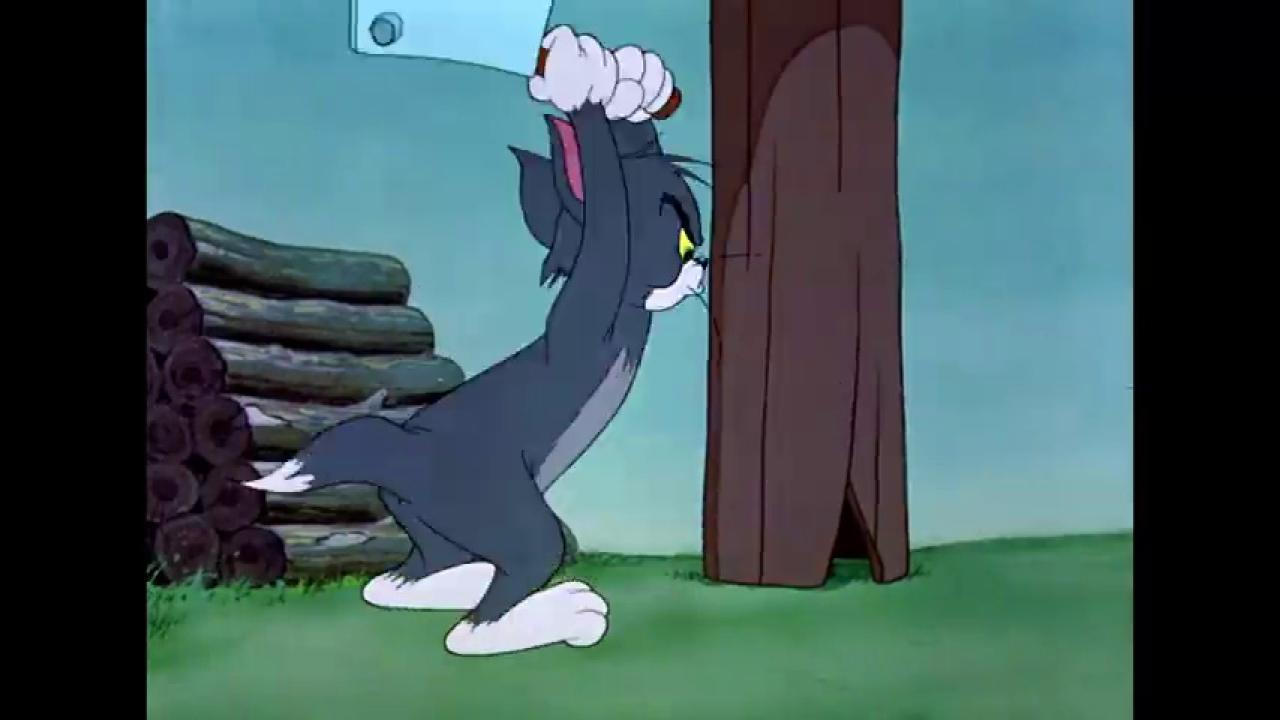Tom: (224, 21, 708, 656)
